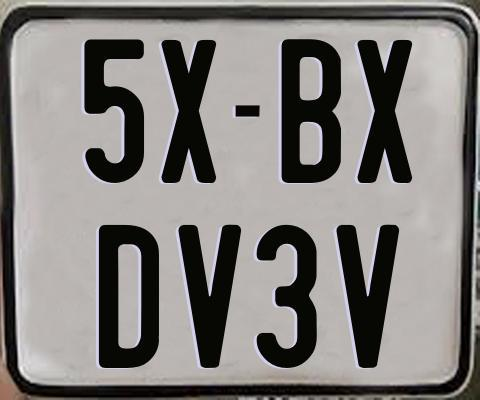3: (257, 225, 322, 370)
5: (84, 39, 147, 186)
B: (280, 38, 345, 182)
D: (97, 225, 163, 374)
V: (176, 223, 245, 366), (336, 225, 399, 374)
X: (161, 40, 219, 189), (355, 38, 410, 181)
